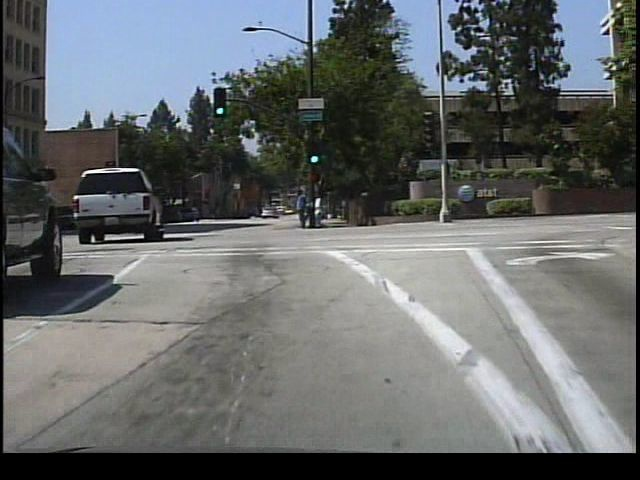person: (292, 182, 311, 230), (315, 190, 329, 229)
